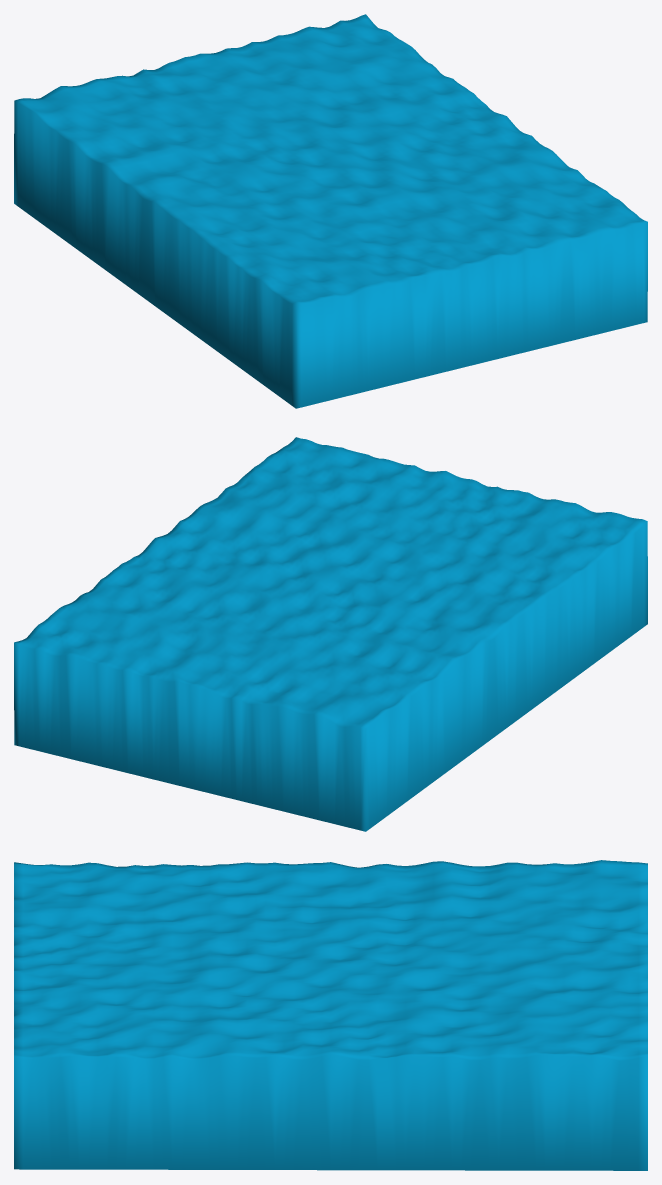
The model's file is water2.obj.
3 renders of one model, top to bottom at view 1: azimuth 30°, elevation 25°; view 2: azimuth 150°, elevation 25°; view 3: azimuth 270°, elevation 25°, orthographic. The views are drawn at different scales.
Visible parts, largest first — view 1: water.001; view 2: water.001; view 3: water.001.
Part boxes in pixels (box(x1,y1,x2,y2)): water.001: box(14, 14, 647, 408); water.001: box(14, 437, 647, 831); water.001: box(14, 860, 647, 1170).
Bounding box in the file's own units: 3.48 × 1.01 × 4.83.
